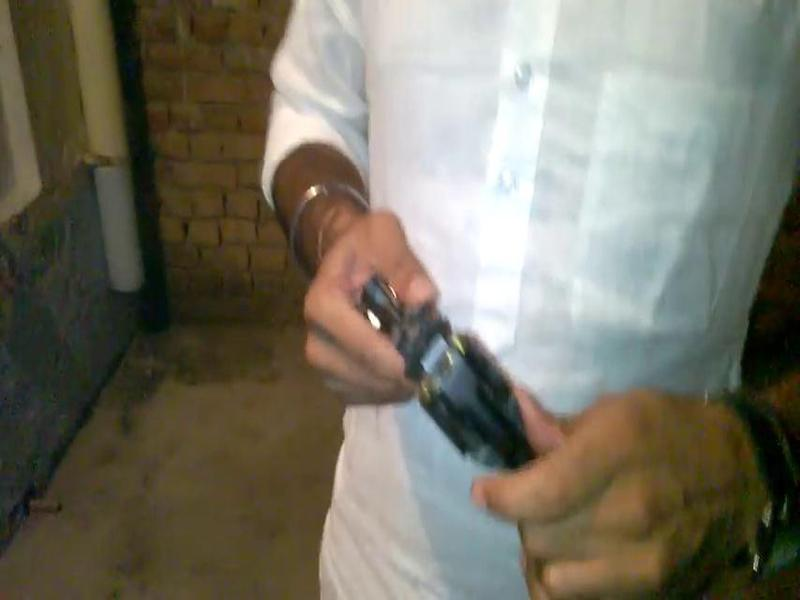Revolver: (313, 244, 592, 545)
